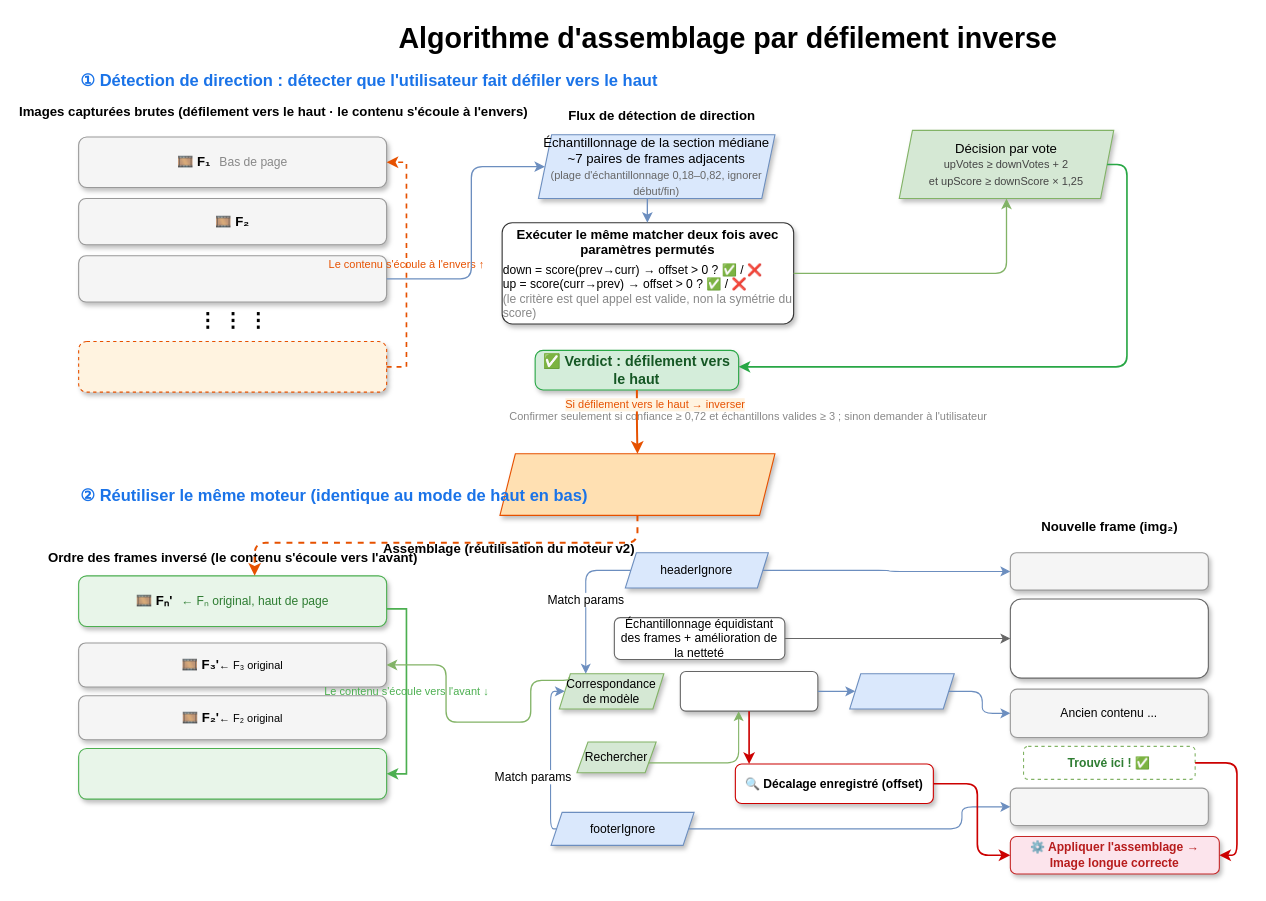
The diagram is 1266 pixels wide and 901 high, and some of its shapes have lost their labels. The shapes that lost their labels are listed below. From the top down, each one's centre as x and y in pixels, then its label:
At point (233, 280): "🎞️ F₃".
At point (233, 368): "🎞️ Fₙ Haut de page".
At point (638, 485): "🔄 reversedForStitching() inverser l'ordre + renuméroter".
At point (1110, 572): "🎬 Barre d'état / Navigation".
At point (1110, 639): "◆ Nouveau contenu A ◆ Nouveau contenu B ◆ Nouveau contenu C".
At point (749, 692): "🔍 Rechercher & Enregistrer".
At point (902, 692): "Plage de recherche".
At point (233, 775): "🎞️ F₁' ← F₁ original, bas de page".
At point (1110, 808): "⊞ Tab Bar".
